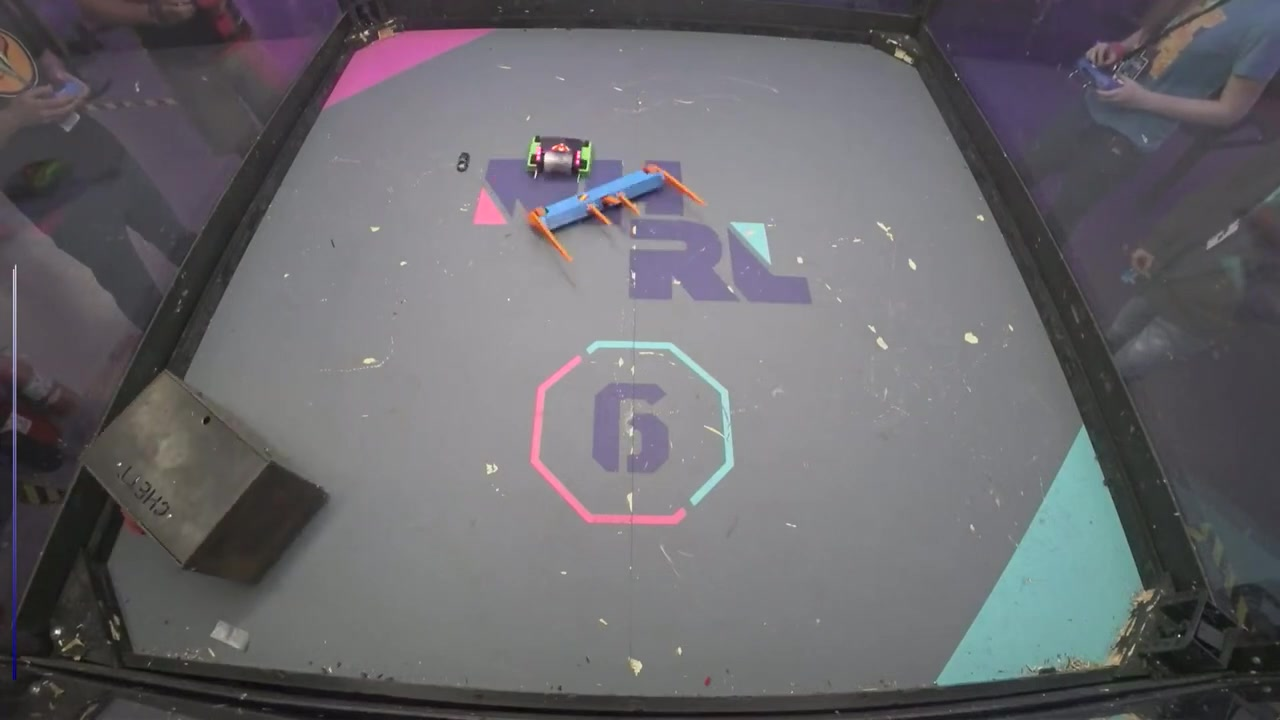combatbot: (524, 161, 704, 267), (524, 136, 594, 182)
debris: (454, 143, 471, 177)
housebot: (76, 368, 334, 590)
